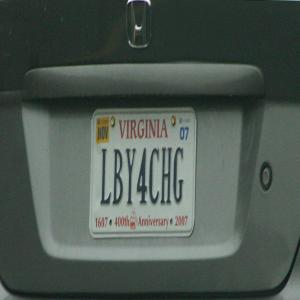Vehicle-registration-plate: (90, 104, 199, 240)
